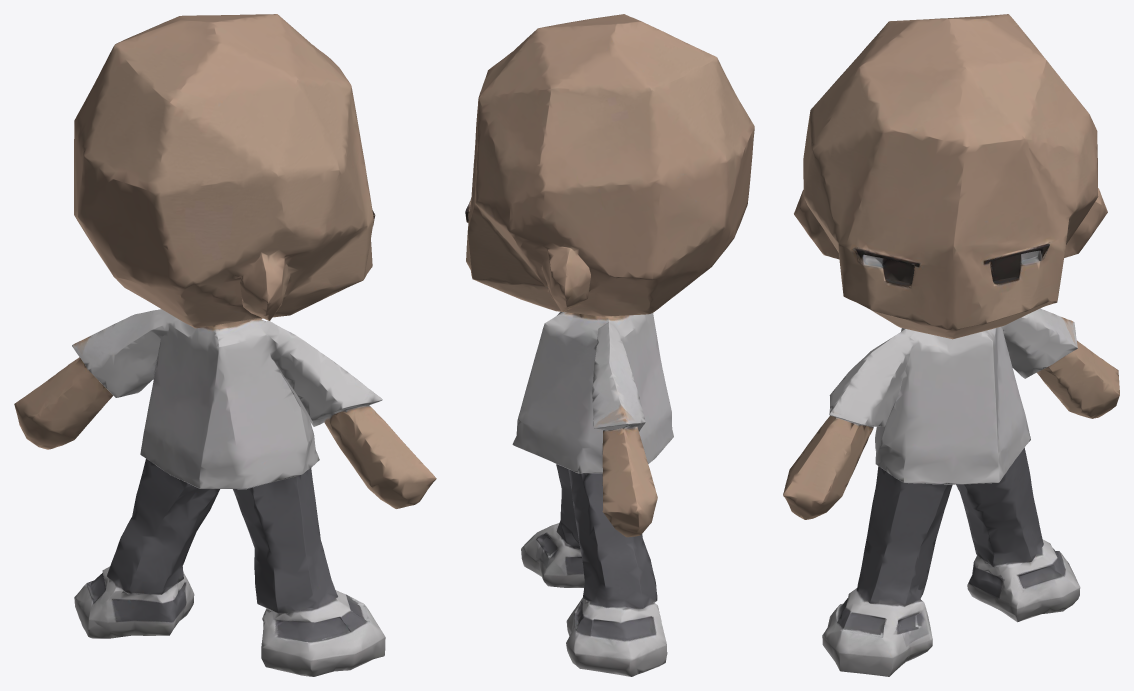
The model's file is dressed.glb.
3 renders of one model, left to right at view 1: azimuth 30°, elevation 25°; view 2: azimuth 150°, elevation 25°; view 3: azimuth 270°, elevation 25°, orthographic. The views are drawn at different scales.
Parts seen in each view (by area): view 1: tripo_node_0a1cd95f-0b7a-4392-9df0-52de571da4aa; view 2: tripo_node_0a1cd95f-0b7a-4392-9df0-52de571da4aa; view 3: tripo_node_0a1cd95f-0b7a-4392-9df0-52de571da4aa.
Boxes of the visible parts, <box> form: tripo_node_0a1cd95f-0b7a-4392-9df0-52de571da4aa: <box>14,14,436,676</box>; tripo_node_0a1cd95f-0b7a-4392-9df0-52de571da4aa: <box>465,14,754,676</box>; tripo_node_0a1cd95f-0b7a-4392-9df0-52de571da4aa: <box>783,14,1119,676</box>.
Size of the model in its own units: 0.449 by 1 by 0.5075.
Materials: 1 (1 with a texture image).
